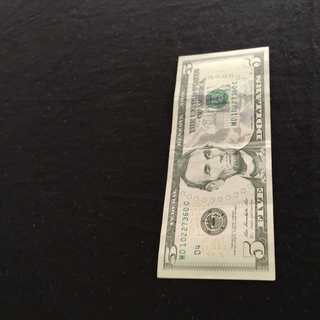5USDFront: (156, 46, 277, 282)
